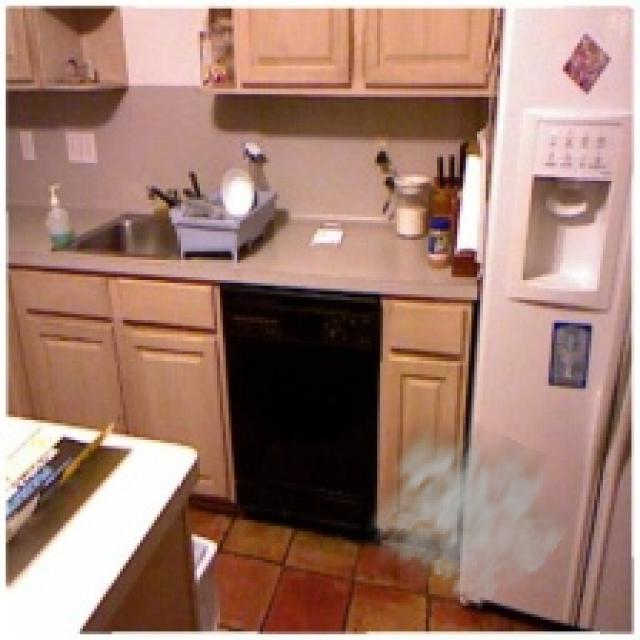smoke: (360, 400, 577, 611)
